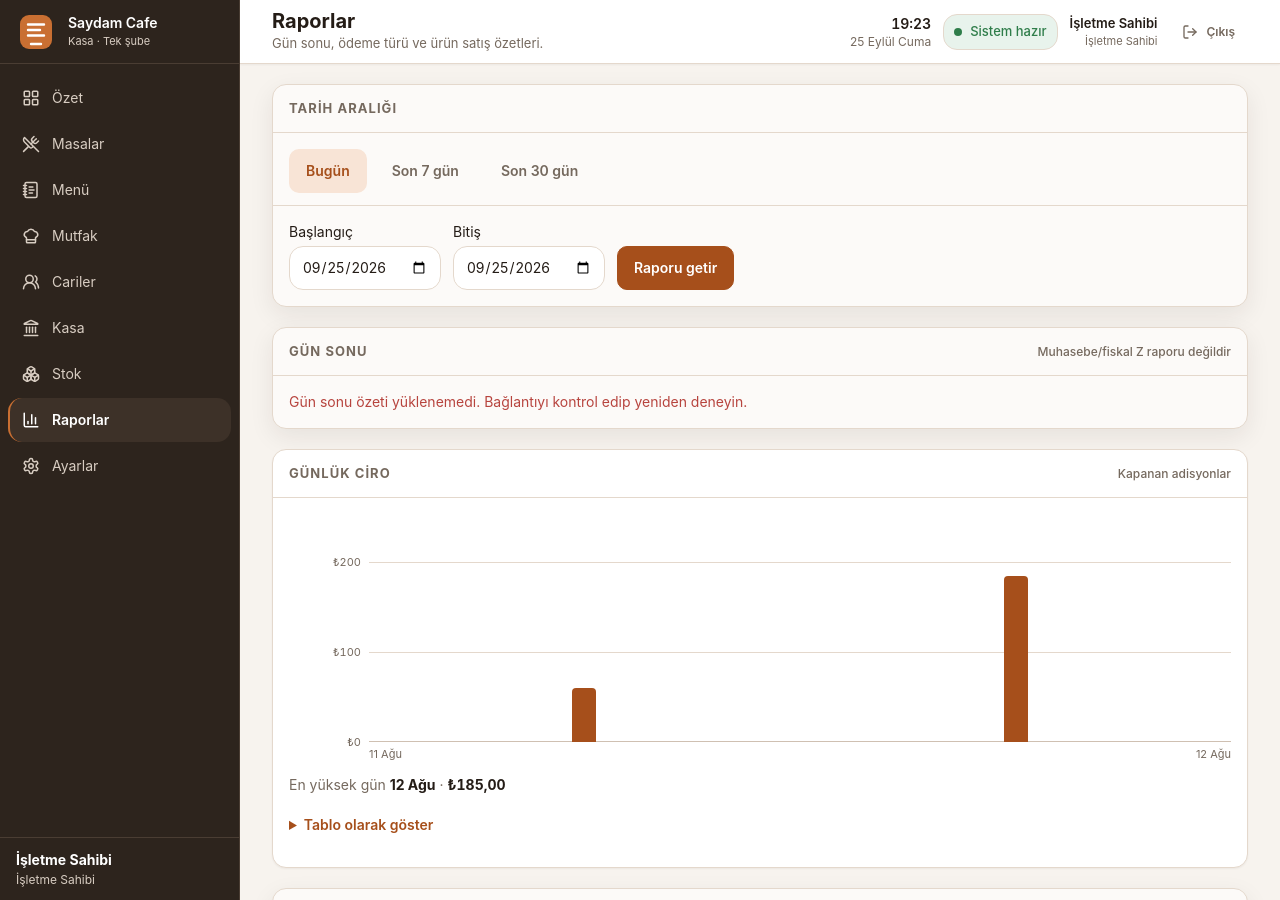
Test: Günlük ciro grafiği › günlük ciro grafiğini, en yüksek günü ve tablo görünümünü gösterir
The width and height of the screenshot is (1280, 900).
Hover over the button named "12 Ağu: ₺185,00, 2 adisyon".
mouse_move(1016, 652)  # box x1=801 y1=562 x2=1231 y2=742
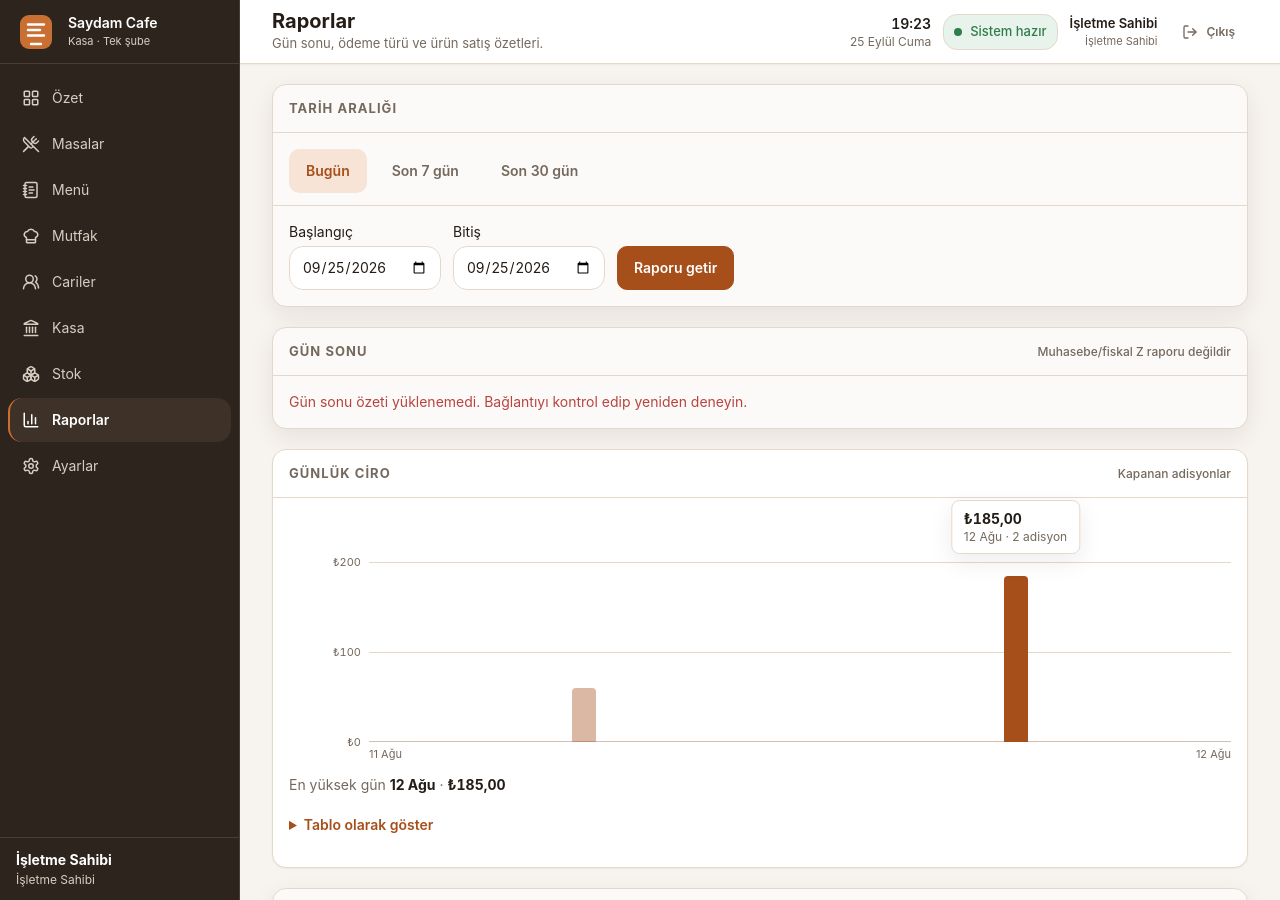
Expected: the text "En yüksek gün 12 Ağu · ₺185,00" is shown, x1=289 y1=776 x2=506 y2=792
Result: the message shows "185,00" at x1=964 y1=510 x2=1022 y2=527
